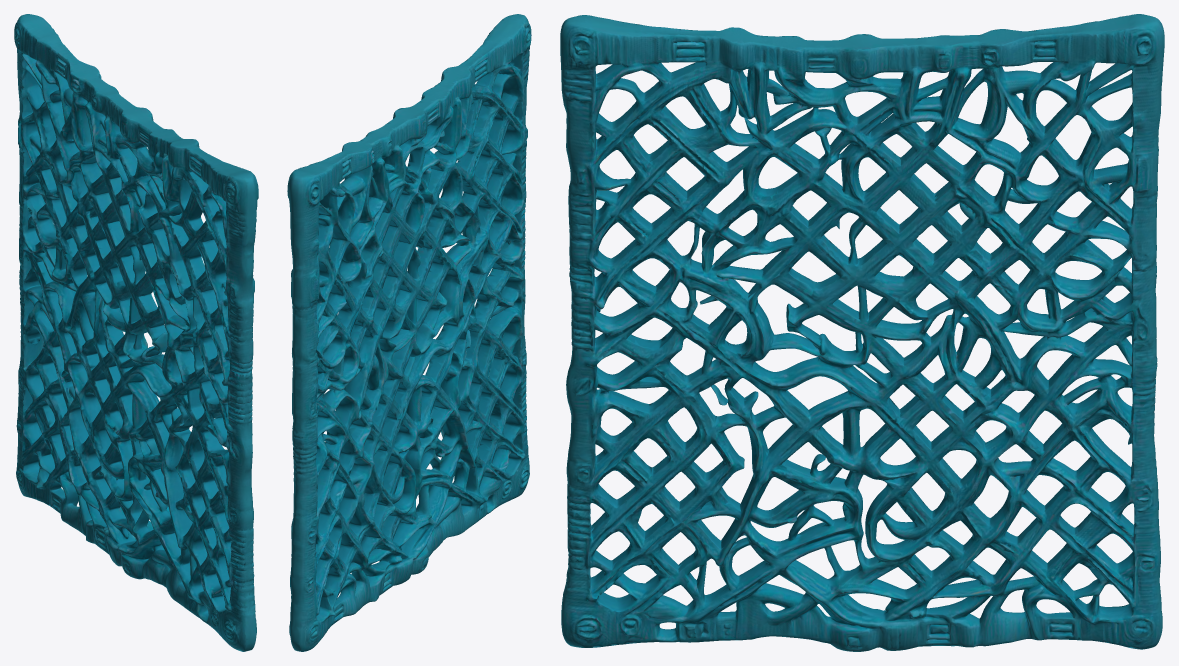
Rendered from paper-finished.web.glb.
The picture shows the model from 3 angles, left to right: view 1: azimuth 30°, elevation 25°; view 2: azimuth 150°, elevation 25°; view 3: azimuth 270°, elevation 25°; orthographic projection. The views are drawn at different scales.
Visible parts, largest first — view 1: tripo_node_1e106395-5fcc-4673-a30a-414d9b0a0c62; view 2: tripo_node_1e106395-5fcc-4673-a30a-414d9b0a0c62; view 3: tripo_node_1e106395-5fcc-4673-a30a-414d9b0a0c62.
Part boxes in pixels (left/top/right/bottom): tripo_node_1e106395-5fcc-4673-a30a-414d9b0a0c62: left=14, top=14, right=258, bottom=651; tripo_node_1e106395-5fcc-4673-a30a-414d9b0a0c62: left=287, top=14, right=531, bottom=651; tripo_node_1e106395-5fcc-4673-a30a-414d9b0a0c62: left=560, top=14, right=1164, bottom=651.
Size of the model in its own units: 0.0621 by 1 by 0.874.
1 material, 1 textured.
